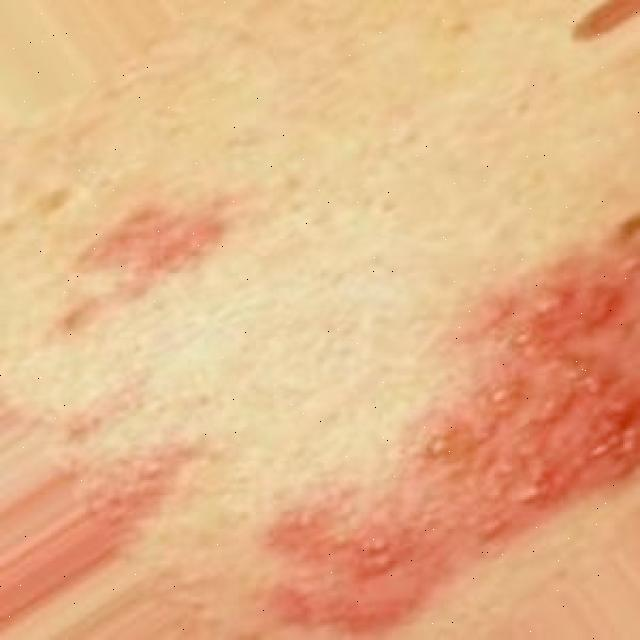Shingles: (258, 212, 640, 637), (57, 198, 238, 336), (74, 378, 185, 528)
